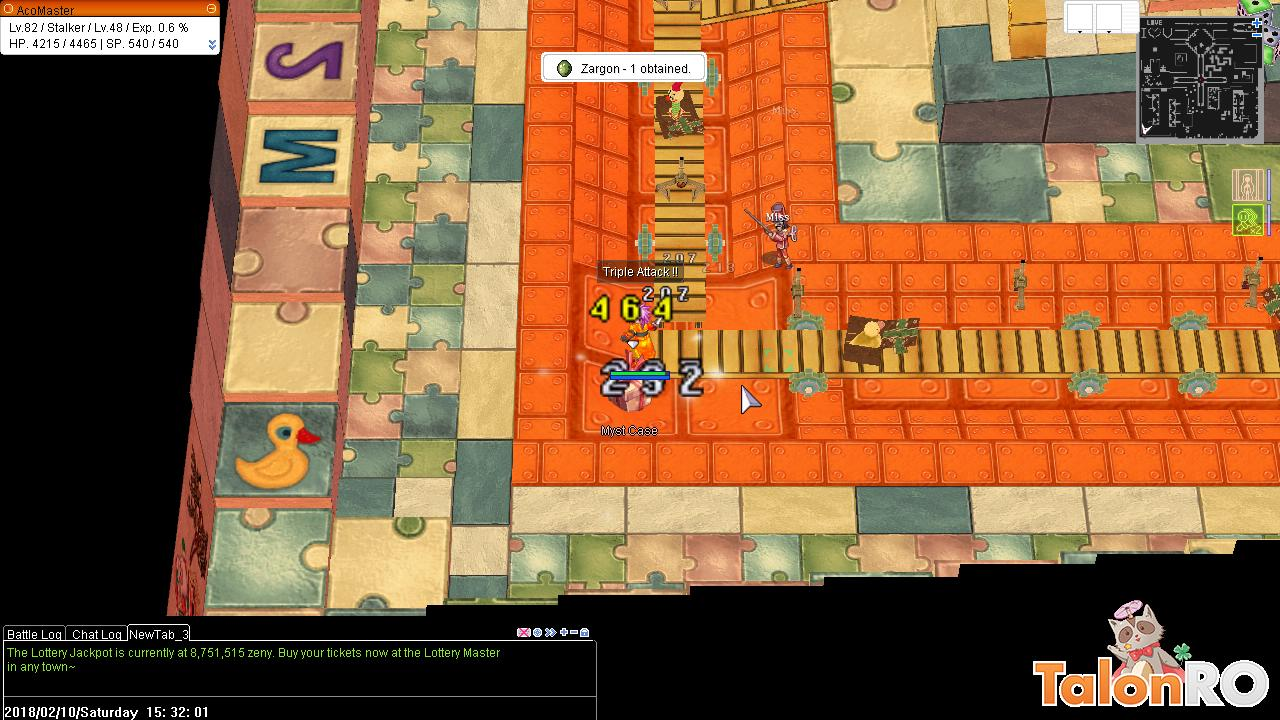mob: (743, 196, 801, 275)
myst_case: (605, 360, 657, 419)
